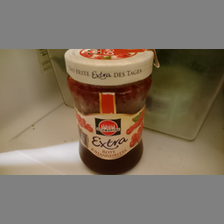jam: (64, 49, 155, 175)
